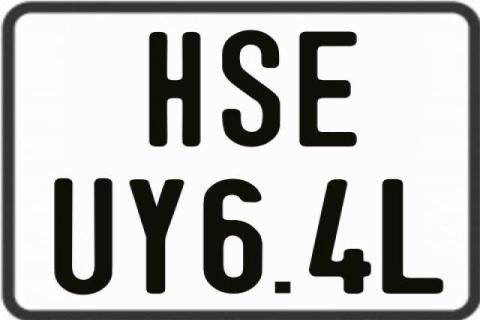0: (309, 178, 371, 298), (201, 179, 263, 295)
E: (299, 30, 360, 146)
H: (148, 30, 202, 146)
L: (381, 180, 448, 298)
S: (219, 29, 279, 150)
U: (53, 177, 115, 295)
Y: (129, 179, 188, 296)
